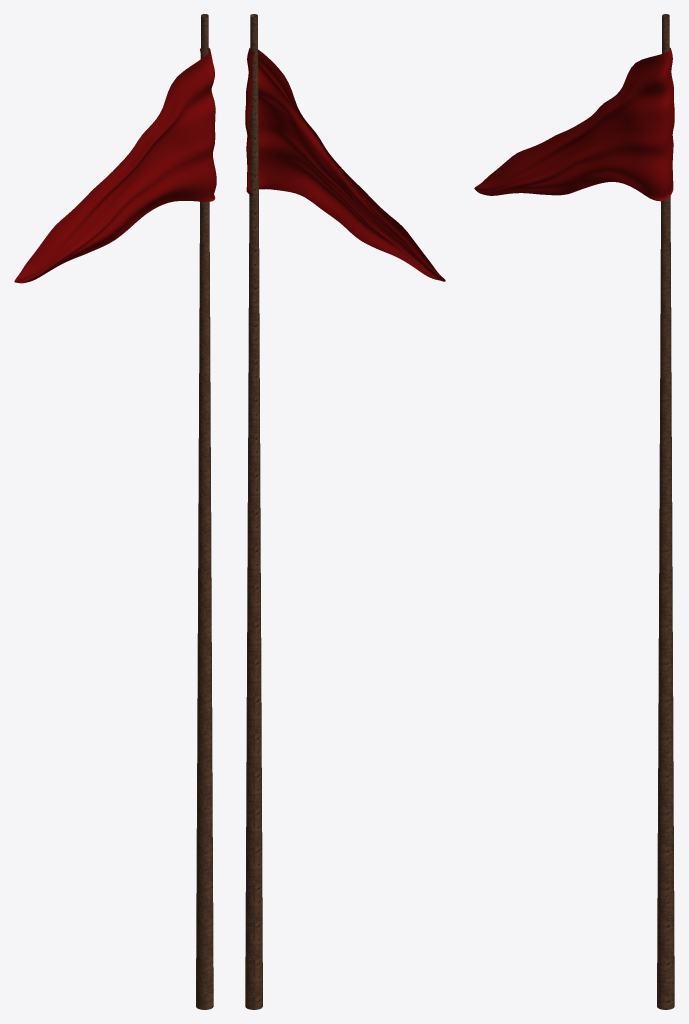
File: fbxflag.fbx
3 renders of one model, left to right at view 1: azimuth 30°, elevation 25°; view 2: azimuth 150°, elevation 25°; view 3: azimuth 330°, elevation 25°, orthographic.
Visible parts, largest first — view 1: flag, poll; view 2: poll, flag; view 3: flag, poll.
Part boxes in pixels (x1,y1,x2,y2): flag: (14, 48, 216, 283); poll: (196, 14, 213, 1009); poll: (245, 14, 262, 1009); flag: (245, 48, 445, 281); flag: (474, 48, 674, 201); poll: (657, 14, 674, 1009).
Bounding box in the file's own units: 0.5316 × 2.53 × 0.0765.
2 materials, 1 textured.
